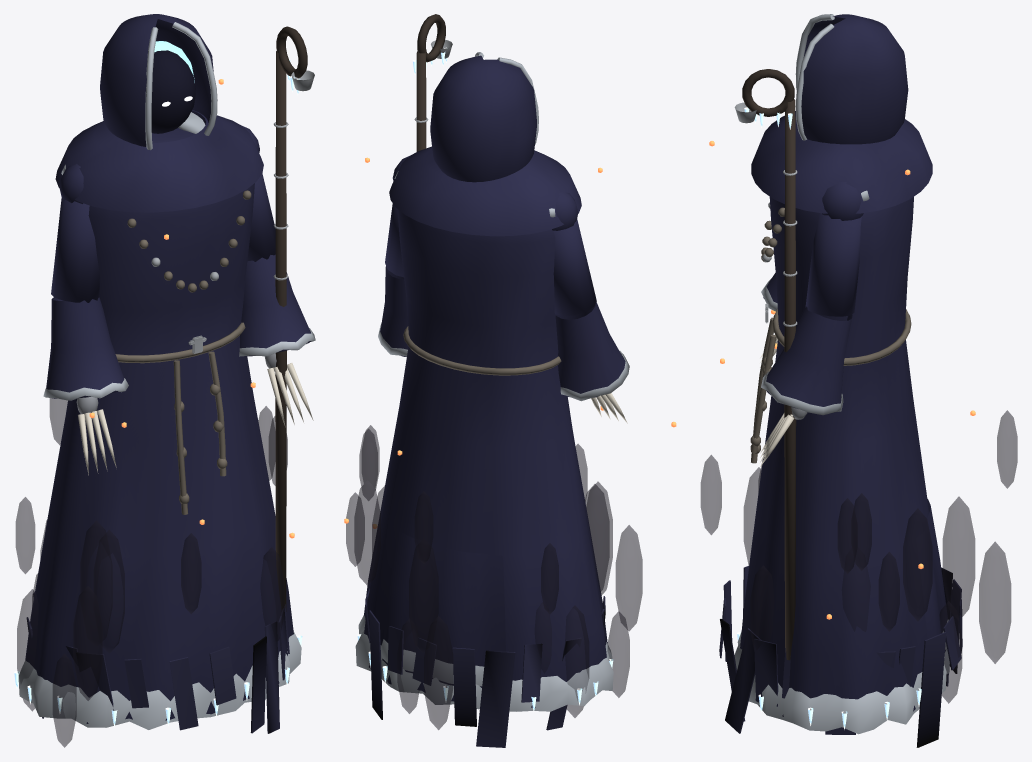
File: silent_abbot.glb
The picture shows the model from 3 angles, left to right: view 1: azimuth 30°, elevation 25°; view 2: azimuth 150°, elevation 25°; view 3: azimuth 270°, elevation 25°; orthographic projection. The views are drawn at different scales.
Parts seen in each view (by area): view 1: Abbot_Root_IndigoRobe, Abbot_Root_HSmoke, ArmA_IndigoRobe, Abbot_Root_HRag_070714, Hood, Abbot_Root_Rime, ArmB_StaffWood, ArmB_IndigoRobe, Abbot_Root_Rope, Void, Head_Rime, ArmA_HClaw (+5 smaller); view 2: Abbot_Root_IndigoRobe, Abbot_Root_HSmoke, BackPanel, Hood, Abbot_Root_HRag_070714, ArmA_IndigoRobe, Abbot_Root_Rime, ArmB_IndigoRobe, ArmB_StaffWood, Abbot_Root_Rope, BackPanelRime, BellRimeArmA; view 3: Abbot_Root_IndigoRobe, Abbot_Root_HSmoke, Hood, ArmB_IndigoRobe, Abbot_Root_HRag_070714, ArmB_StaffWood, Abbot_Root_Rime, Abbot_Root_Rope, BackPanel, Head_Rime, BellRimeArmB, ArmB_HClaw.
Part boxes in pixels (x1=…): Abbot_Root_IndigoRobe: x1=25, y1=110, x2=293, y2=723; Abbot_Root_HSmoke: x1=15, y1=398, x2=287, y2=747; ArmA_IndigoRobe: x1=46, y1=164, x2=124, y2=398; Abbot_Root_HRag_070714: x1=26, y1=592, x2=289, y2=733; Hood: x1=100, y1=14, x2=213, y2=146; Abbot_Root_Rime: x1=18, y1=112, x2=301, y2=729; ArmB_StaffWood: x1=275, y1=26, x2=307, y2=611; ArmB_IndigoRobe: x1=239, y1=124, x2=310, y2=356; Abbot_Root_Rope: x1=115, y1=190, x2=251, y2=514; Void: x1=151, y1=50, x2=195, y2=133; Head_Rime: x1=145, y1=22, x2=217, y2=150; ArmA_HClaw: x1=78, y1=409, x2=116, y2=475; Abbot_Root_IndigoRobe: x1=364, y1=146, x2=607, y2=707; Abbot_Root_HSmoke: x1=346, y1=425, x2=642, y2=729; BackPanel: x1=382, y1=530, x2=505, y2=687; Hood: x1=430, y1=55, x2=536, y2=182; Abbot_Root_HRag_070714: x1=365, y1=588, x2=605, y2=747; ArmA_IndigoRobe: x1=552, y1=191, x2=625, y2=397; Abbot_Root_Rime: x1=355, y1=171, x2=613, y2=711; ArmB_IndigoRobe: x1=380, y1=155, x2=411, y2=356; ArmB_StaffWood: x1=416, y1=14, x2=445, y2=151; Abbot_Root_Rope: x1=403, y1=326, x2=561, y2=375; BackPanelRime: x1=381, y1=639, x2=484, y2=686; BellRimeArmA: x1=560, y1=350, x2=629, y2=401; Abbot_Root_IndigoRobe: x1=740, y1=111, x2=932, y2=716; Abbot_Root_HSmoke: x1=700, y1=410, x2=1017, y2=703; Hood: x1=801, y1=14, x2=908, y2=144; ArmB_IndigoRobe: x1=766, y1=182, x2=863, y2=413; Abbot_Root_HRag_070714: x1=719, y1=566, x2=962, y2=747; ArmB_StaffWood: x1=742, y1=69, x2=796, y2=660; Abbot_Root_Rime: x1=734, y1=190, x2=949, y2=734; Abbot_Root_Rope: x1=750, y1=207, x2=911, y2=463; BackPanel: x1=916, y1=499, x2=947, y2=652; Head_Rime: x1=795, y1=14, x2=834, y2=140; BellRimeArmB: x1=761, y1=371, x2=843, y2=415; ArmB_HClaw: x1=760, y1=413, x2=794, y2=466.
Bounding box in the file's own units: 0.7578 × 1.92 × 0.8723.
